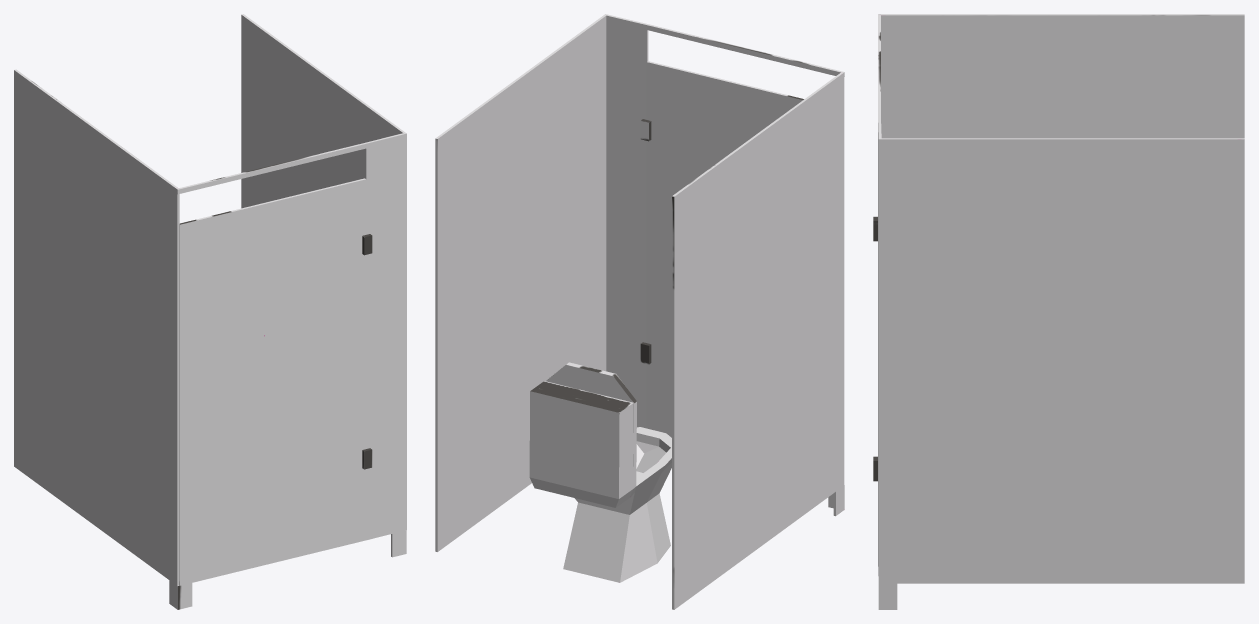
Rendered from kibelglb.glb.
3 renders of one model, left to right at view 1: azimuth 30°, elevation 25°; view 2: azimuth 150°, elevation 25°; view 3: azimuth 270°, elevation 25°, orthographic. The views are drawn at different scales.
Parts seen in each view (by area): view 1: Cube.028; view 2: Cube.028; view 3: Cube.028.
Part boxes in pixels (x1,y1,x2,y2): Cube.028: (14,14,406,609); Cube.028: (435,14,844,609); Cube.028: (873,14,1244,609).
Bounding box in the file's own units: 2.99 × 5.23 × 3.73.
Materials: 1 (1 with a texture image).
